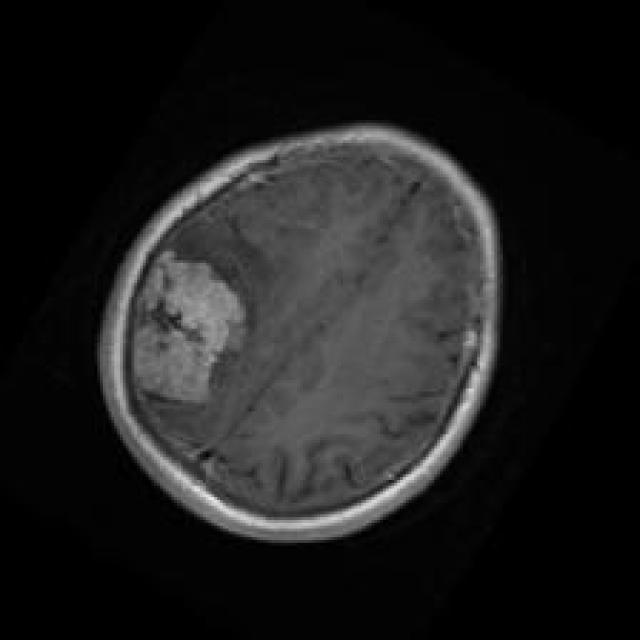meningioma_tumor: (118, 246, 257, 418)
